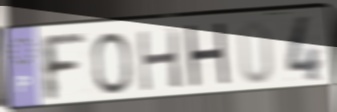0: (236, 18, 275, 86)
4: (283, 14, 326, 84)
F: (36, 33, 88, 105)
H: (182, 19, 233, 93), (135, 26, 185, 95)
O: (90, 30, 134, 96)
